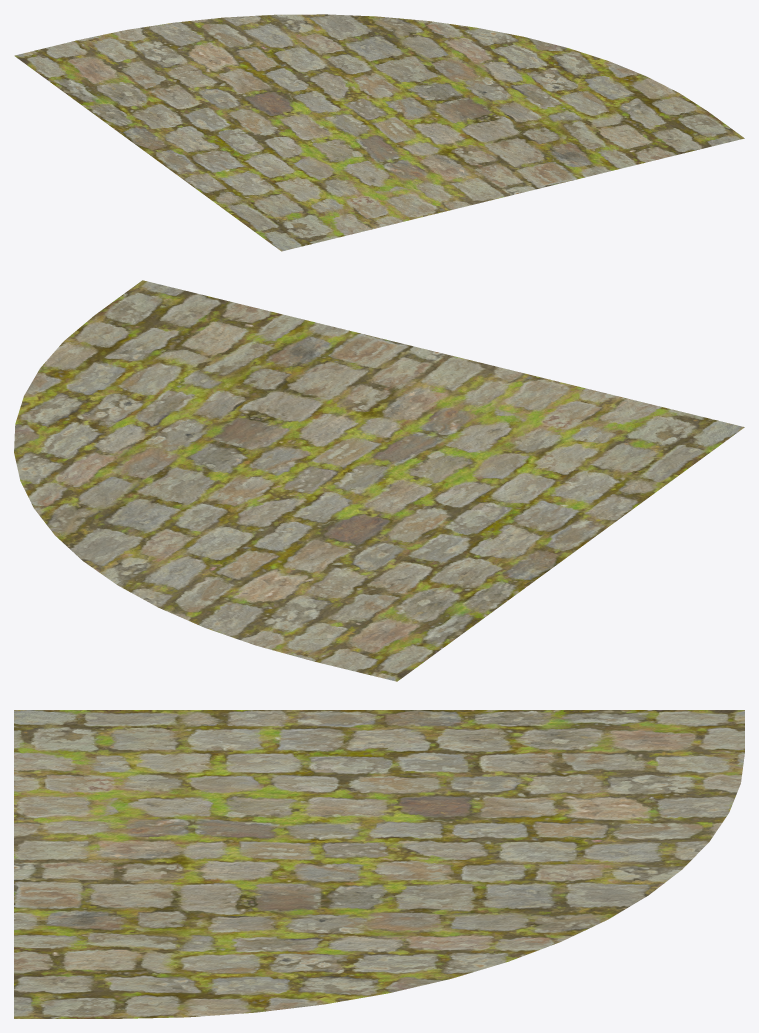
File: Sidewalk corner.fbx
3 views of the same model, one above another, from view 1: azimuth 30°, elevation 25°; view 2: azimuth 150°, elevation 25°; view 3: azimuth 270°, elevation 25° (orthographic). The views are drawn at different scales.
Visible parts, largest first — view 1: Sidewalk corner; view 2: Sidewalk corner; view 3: Sidewalk corner.
Part boxes in pixels (x1,y1,x2,y2): Sidewalk corner: [14, 14, 744, 251]; Sidewalk corner: [14, 280, 744, 681]; Sidewalk corner: [14, 710, 744, 1018].
Bounding box in the file's own units: 200 × 0.2344 × 200.
